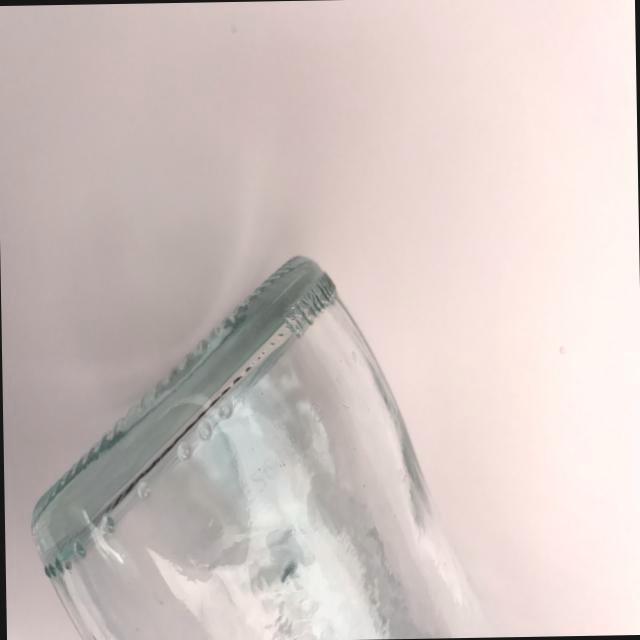glass: (21, 235, 506, 640)
